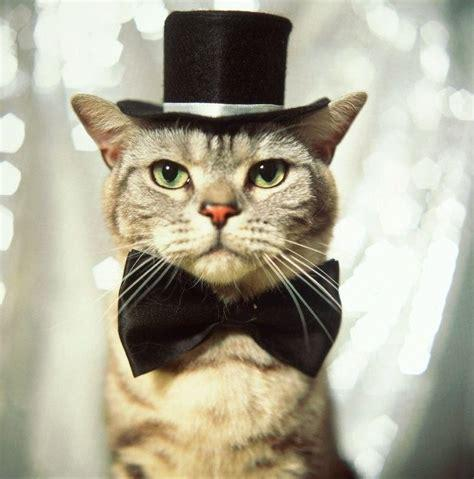cat: (71, 94, 366, 478)
